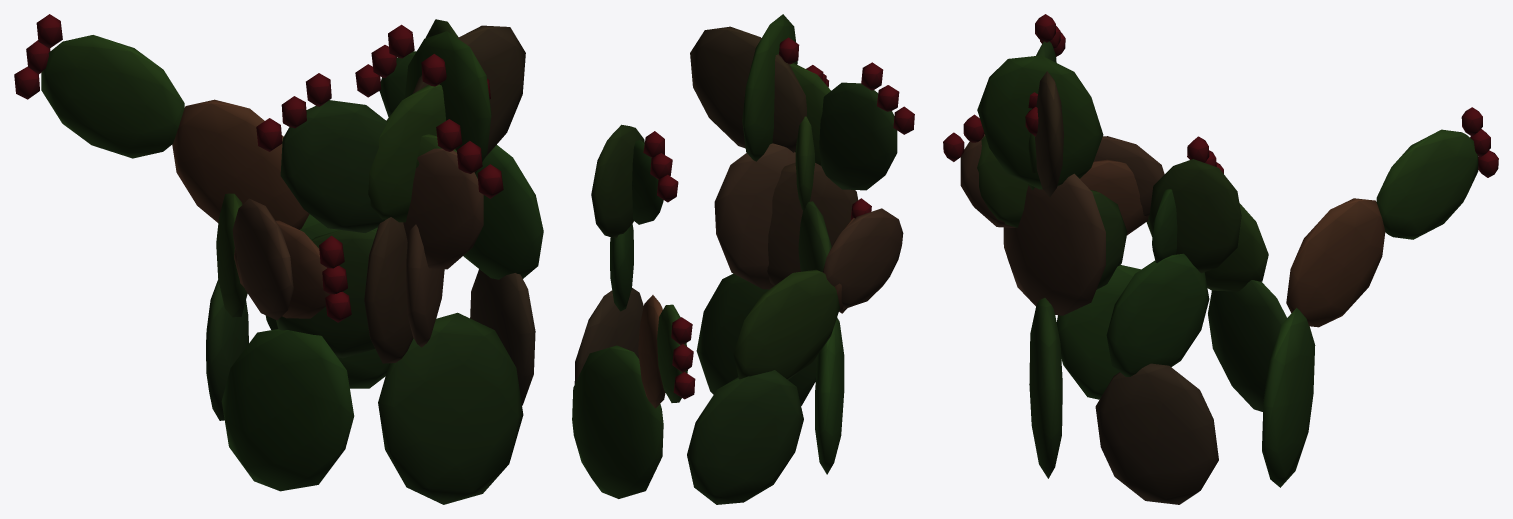
File: SM_PricklyPear.fbx
3 views of the same model, side by side, from view 1: azimuth 30°, elevation 25°; view 2: azimuth 150°, elevation 25°; view 3: azimuth 270°, elevation 25° (orthographic). The views are drawn at different scales.
Parts seen in each view (by area): view 1: SM_PricklyPear; view 2: SM_PricklyPear; view 3: SM_PricklyPear.
Boxes of the visible parts, x1,y1,x2,y2 form: SM_PricklyPear: (14, 14, 543, 504); SM_PricklyPear: (572, 14, 914, 504); SM_PricklyPear: (943, 14, 1498, 504).
Size of the model in its own units: 0.7606 by 1.08 by 1.34.
